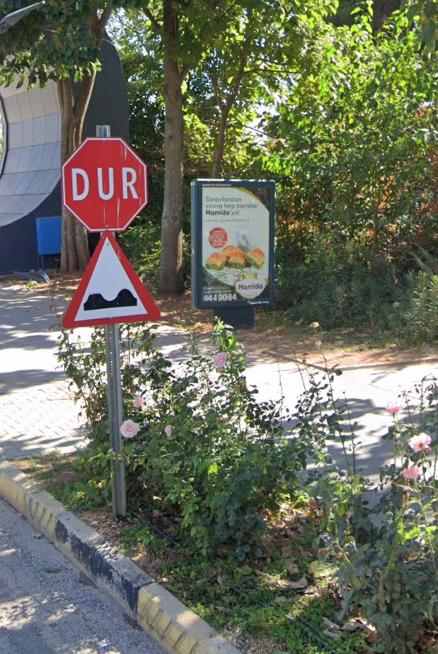stop: (59, 136, 152, 235)
